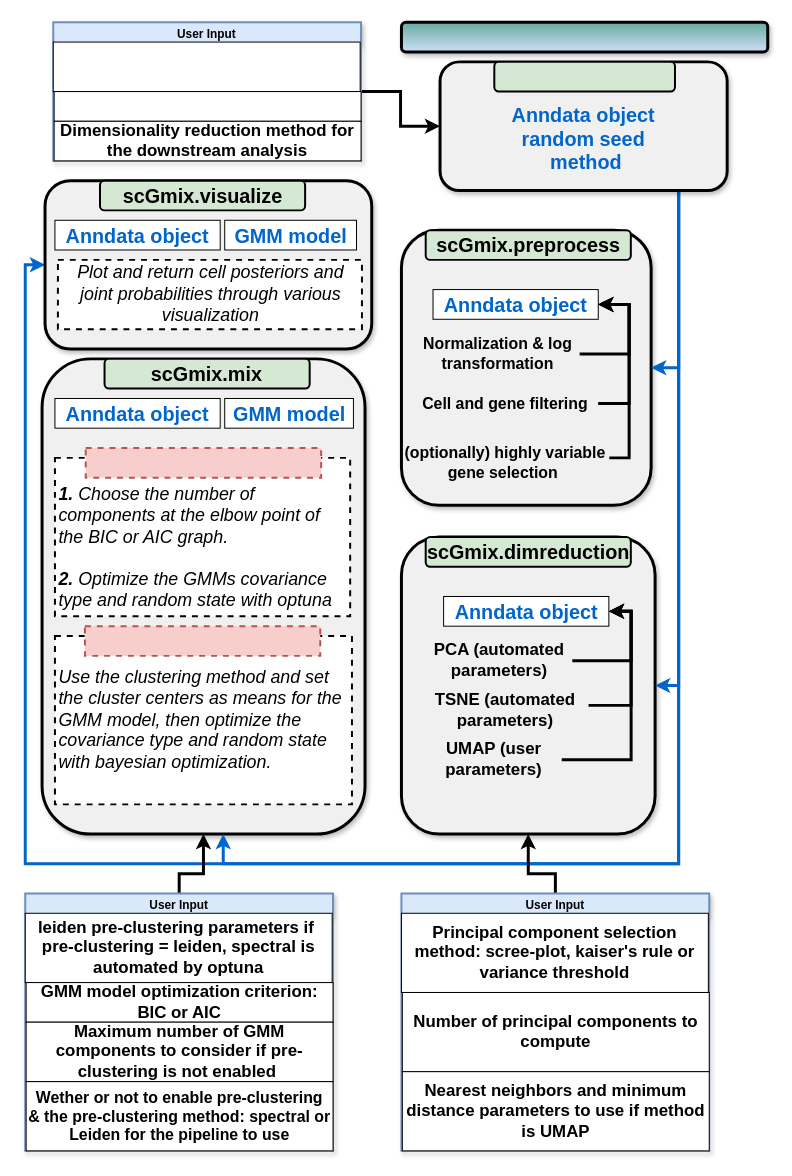
This 792x1176 diagram has some shape labels left out. The centre of each missing label's shape, as x and y in pixels:
if preclustering is disabled: (203,462)
if preclustering is enabled: (202,640)
sc-RNA seq expression counts in Anndata format: (206,66)
scGmix class: (584,76)
scGmix Pipeline: (585,38)
Seed for reproducibility: (207,106)
